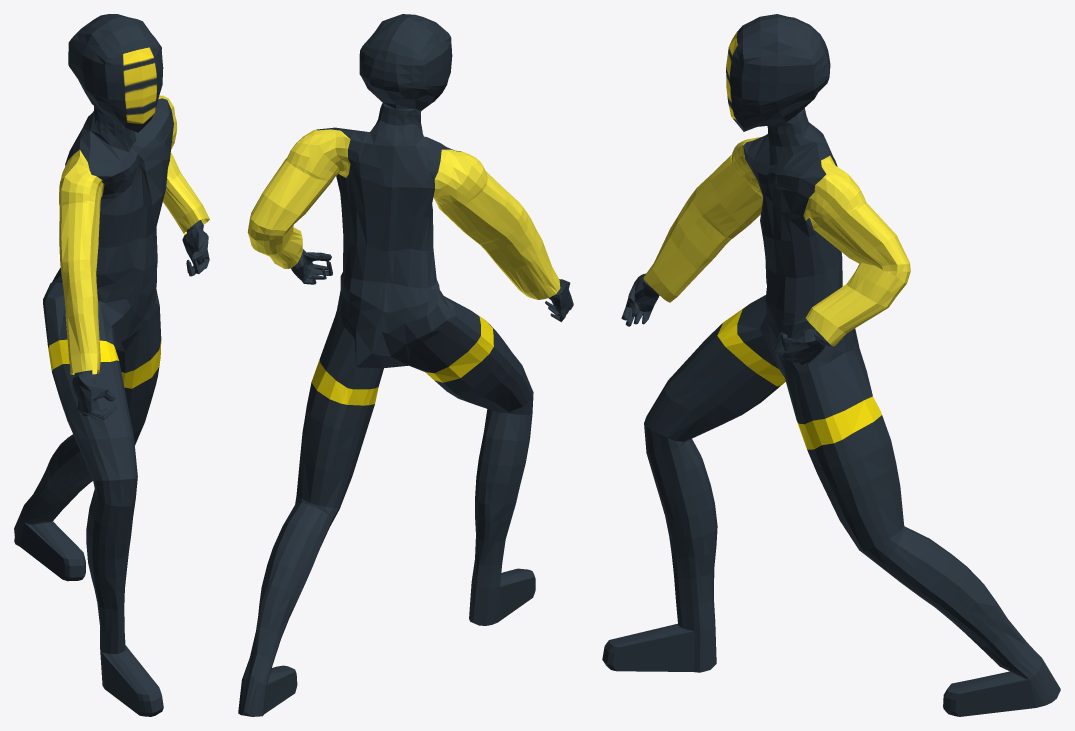
Rendered from Sentry_Stun_Recover_000013.obj.
3 renders of one model, left to right at view 1: azimuth 30°, elevation 25°; view 2: azimuth 150°, elevation 25°; view 3: azimuth 270°, elevation 25°, orthographic. The views are drawn at different scales.
Visible parts, largest first — view 1: Cube; view 2: Cube; view 3: Cube.
Boxes of the visible parts, <box> form: Cube: <box>14,14,209,716</box>; Cube: <box>238,14,573,716</box>; Cube: <box>602,14,1060,716</box>.
Size of the model in its own units: 1.3 by 3.61 by 2.23.
